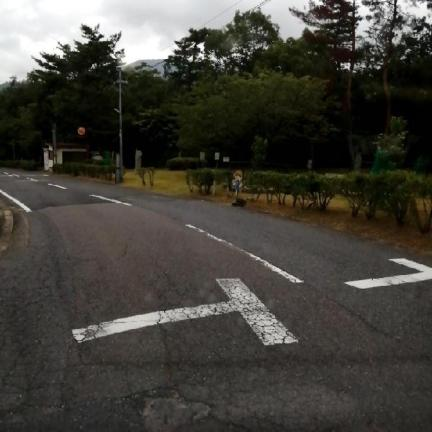Road: (0, 170, 431, 431)
